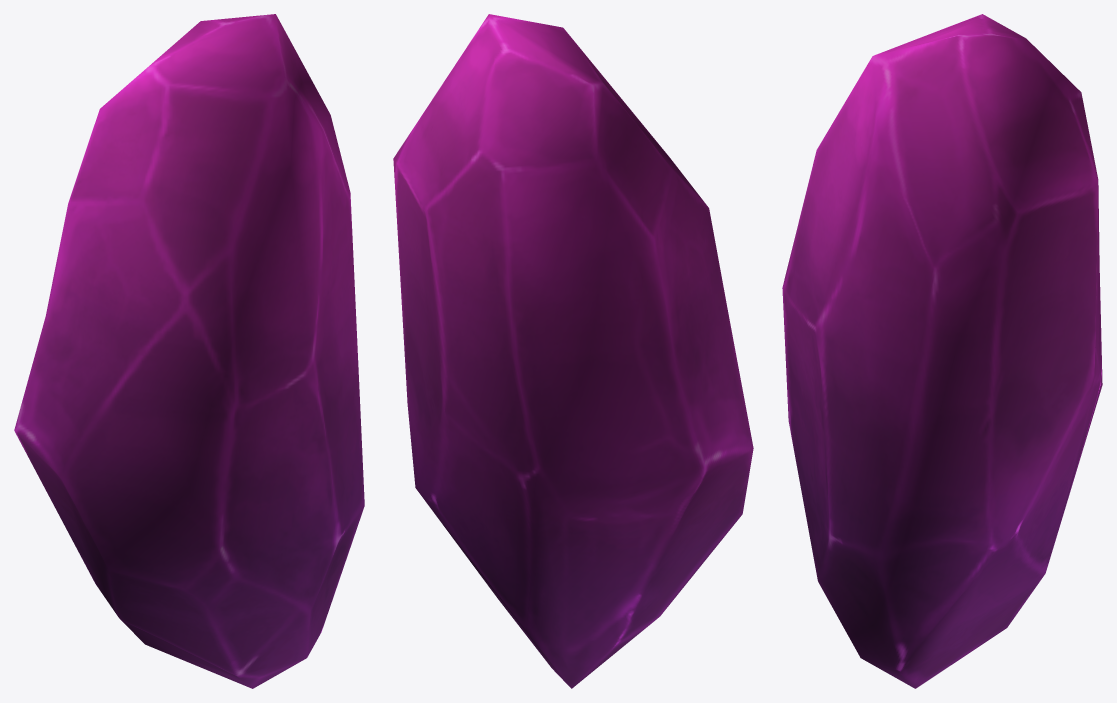
The model's file is VEG0510013.fbx.
3 renders of one model, left to right at view 1: azimuth 30°, elevation 25°; view 2: azimuth 150°, elevation 25°; view 3: azimuth 270°, elevation 25°, orthographic. The views are drawn at different scales.
Parts seen in each view (by area): view 1: smVEG0510013; view 2: smVEG0510013; view 3: smVEG0510013.
Part boxes in pixels (<box>): smVEG0510013: <box>14,14,364,688</box>; smVEG0510013: <box>393,14,753,688</box>; smVEG0510013: <box>782,14,1102,688</box>.
Size of the model in its own units: 25.87 by 52.34 by 22.53.
1 material, 1 textured.
